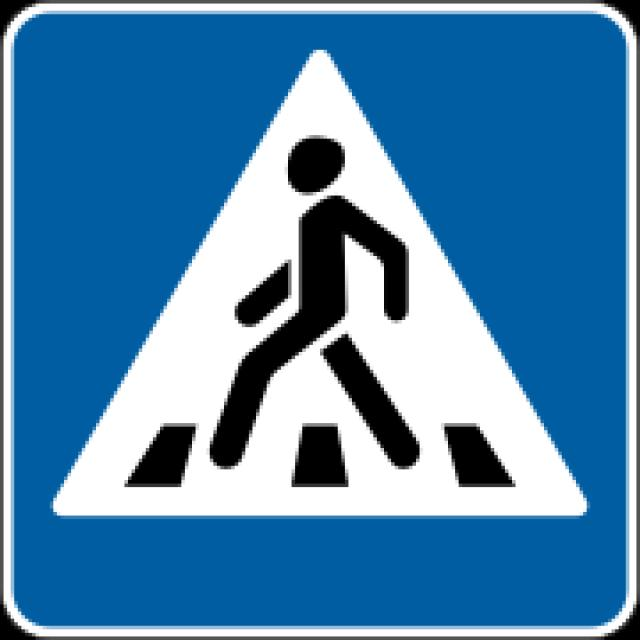Pedestrian crosswalk: (33, 28, 606, 566)
